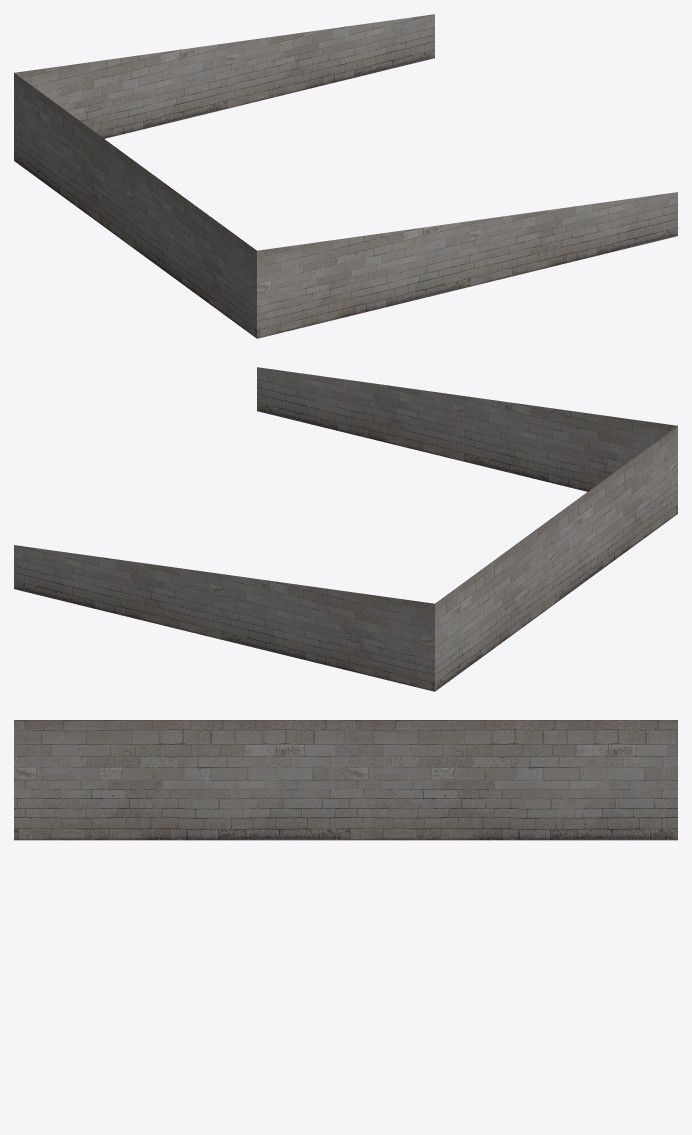
Rendered from Gradient_AngleSideWall_4M.fbx.
The picture shows the model from 3 angles, top to bottom: view 1: azimuth 30°, elevation 25°; view 2: azimuth 150°, elevation 25°; view 3: azimuth 270°, elevation 25°; orthographic projection. The views are drawn at different scales.
Visible parts, largest first — view 1: Gradient_AngleSideWall_4M; view 2: Gradient_AngleSideWall_4M; view 3: Gradient_AngleSideWall_4M.
Boxes of the visible parts, x1,y1,x2,y2 form: Gradient_AngleSideWall_4M: [14, 14, 677, 338]; Gradient_AngleSideWall_4M: [14, 367, 677, 691]; Gradient_AngleSideWall_4M: [14, 720, 677, 840].
Size of the model in its own units: 20 by 4 by 20.
